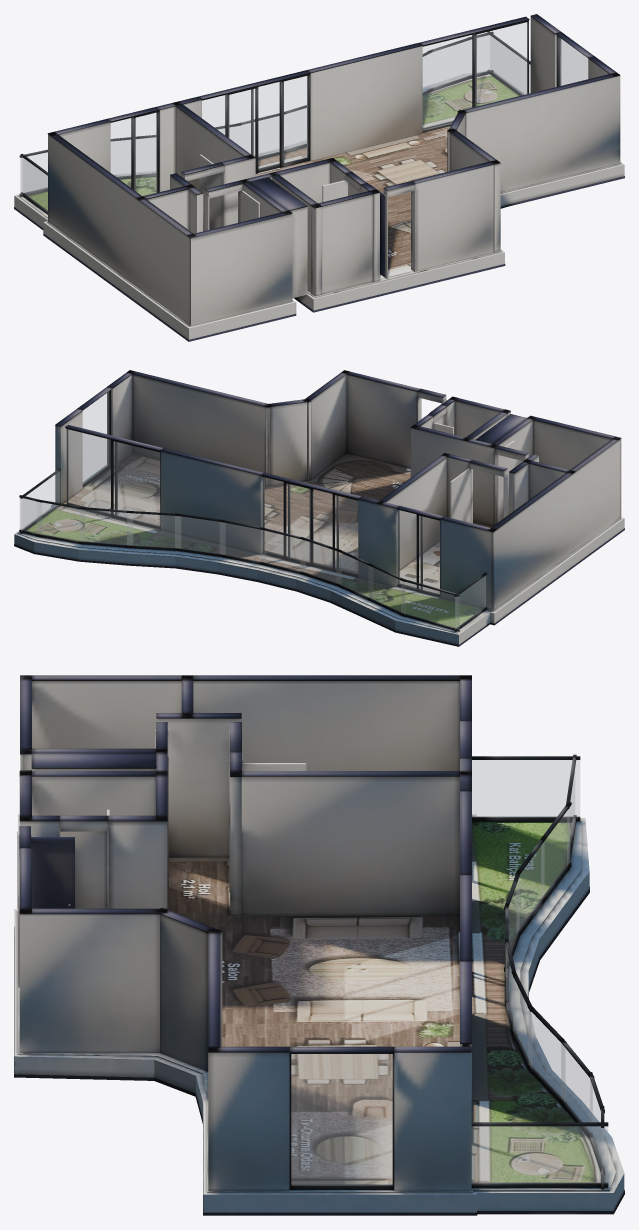
The picture shows the model from 3 angles, top to bottom: view 1: azimuth 30°, elevation 25°; view 2: azimuth 150°, elevation 25°; view 3: azimuth 270°, elevation 25°; orthographic projection. The views are drawn at different scales.
Visible parts, largest first — view 1: plan, glass2_m, glass1_m, glass0_m, railg11_m, railg10_m, glass3_m, railg5_m, railg12_m, railg0_m, railg6_m, railg1_m (+2 smaller); view 2: plan, glass2_m, glass1_m, glass0_m, railg0_m, glass3_m, railg8_m, railg9_m, railg7_m, railg10_m, railg6_m, railg5_m (+6 smaller); view 3: plan, glass3_m, railg11_m, railg12_m, railg8_m, railg9_m, railg1_m, railg2_m, railg7_m.
Part boxes in pixels (bbox=[...]): plan: bbox=[14, 14, 624, 341]; glass2_m: bbox=[423, 22, 526, 129]; glass1_m: bbox=[202, 76, 307, 169]; glass0_m: bbox=[111, 113, 156, 195]; railg11_m: bbox=[490, 36, 530, 94]; railg10_m: bbox=[433, 41, 468, 87]; glass3_m: bbox=[559, 37, 587, 85]; railg5_m: bbox=[241, 116, 278, 156]; railg12_m: bbox=[22, 158, 47, 210]; railg0_m: bbox=[20, 152, 47, 193]; railg6_m: bbox=[285, 108, 306, 149]; railg1_m: bbox=[111, 140, 130, 176]; plan: bbox=[14, 370, 624, 646]; glass2_m: bbox=[66, 429, 159, 525]; glass1_m: bbox=[263, 477, 357, 573]; glass0_m: bbox=[398, 510, 439, 593]; railg0_m: bbox=[401, 581, 459, 628]; glass3_m: bbox=[83, 392, 108, 483]; railg8_m: bbox=[127, 513, 180, 548]; railg9_m: bbox=[79, 509, 132, 545]; railg7_m: bbox=[175, 516, 225, 554]; railg10_m: bbox=[37, 502, 85, 541]; railg6_m: bbox=[220, 522, 266, 562]; railg5_m: bbox=[261, 530, 305, 572]; plan: bbox=[14, 675, 624, 1215]; glass3_m: bbox=[291, 1054, 392, 1185]; railg11_m: bbox=[472, 1126, 607, 1183]; railg12_m: bbox=[472, 760, 579, 817]; railg8_m: bbox=[529, 1010, 565, 1101]; railg9_m: bbox=[561, 1043, 592, 1133]; railg1_m: bbox=[541, 808, 569, 900]; railg2_m: bbox=[517, 842, 544, 933]; railg7_m: bbox=[513, 977, 531, 1068].
Bounding box in the file's own units: 13.24 × 2.62 × 8.97.
Materials: 2 (1 with a texture image).
